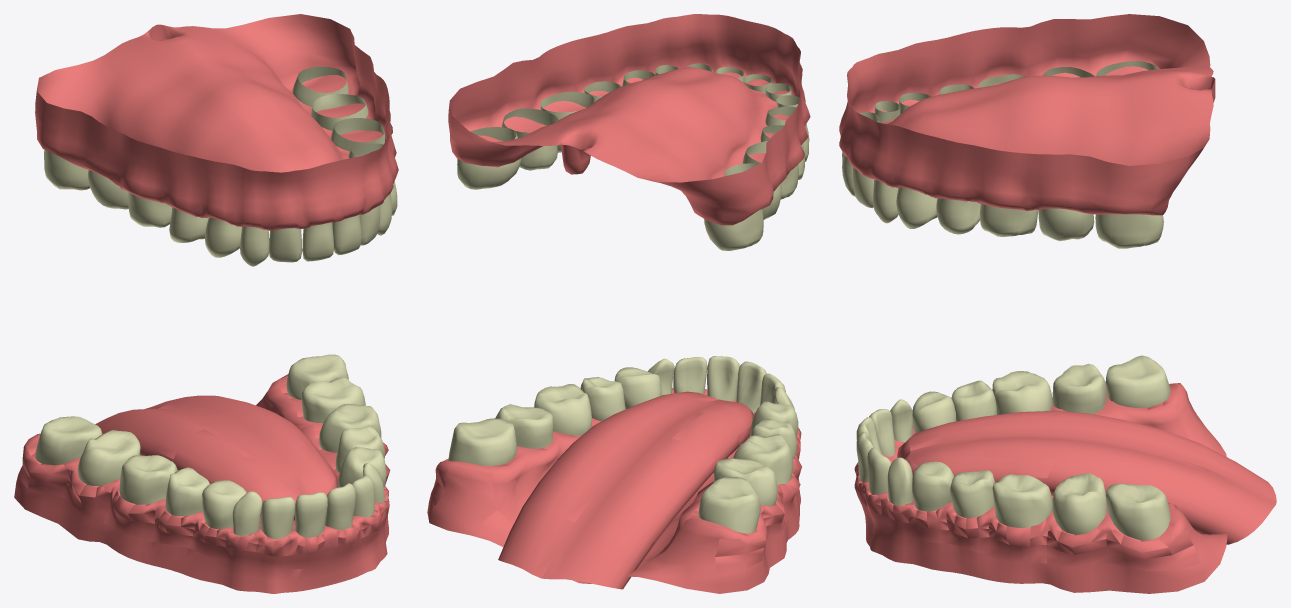
Rendered from habitooth_FDI_number.glb.
The picture shows the model from 3 angles, left to right: view 1: azimuth 30°, elevation 25°; view 2: azimuth 150°, elevation 25°; view 3: azimuth 270°, elevation 25°; orthographic projection. The views are drawn at different scales.
Visible parts, largest first — view 1: Cube.001, Cube.003, Cube.010, Tooth_47, Tooth_48, Tooth_46, Tooth_37, Tooth_36, Tooth_38, Tooth_45, Tooth_44, Tooth_41 (+19 smaller); view 2: Cube.001, Cube.010, Cube.003, Tooth_38, Tooth_48, Tooth_36, Tooth_28, Tooth_37, Tooth_46, Tooth_47, Tooth_18, Tooth_35 (+12 smaller); view 3: Cube.001, Cube.003, Cube.010, Tooth_38, Tooth_37, Tooth_48, Tooth_36, Tooth_47, Tooth_46, Tooth_28, Tooth_35, Tooth_34 (+12 smaller).
Boxes of the visible parts, bbox=[...] form: Cube.001: bbox=[35, 14, 398, 230]; Cube.003: bbox=[14, 374, 390, 593]; Cube.010: bbox=[95, 395, 337, 520]; Tooth_47: bbox=[78, 430, 140, 485]; Tooth_48: bbox=[35, 416, 102, 465]; Tooth_46: bbox=[119, 455, 177, 504]; Tooth_37: bbox=[301, 377, 365, 423]; Tooth_36: bbox=[319, 404, 381, 452]; Tooth_38: bbox=[286, 354, 348, 399]; Tooth_45: bbox=[165, 467, 209, 516]; Tooth_44: bbox=[202, 480, 246, 529]; Tooth_41: bbox=[294, 492, 327, 537]; Cube.001: bbox=[448, 14, 810, 225]; Cube.010: bbox=[498, 391, 753, 589]; Cube.003: bbox=[427, 388, 801, 593]; Tooth_38: bbox=[448, 418, 517, 465]; Tooth_48: bbox=[698, 476, 760, 533]; Tooth_36: bbox=[534, 384, 591, 435]; Tooth_28: bbox=[457, 127, 521, 189]; Tooth_37: bbox=[495, 404, 553, 448]; Tooth_46: bbox=[733, 434, 793, 484]; Tooth_47: bbox=[713, 458, 777, 506]; Tooth_18: bbox=[704, 209, 763, 250]; Tooth_35: bbox=[580, 377, 625, 421]; Cube.001: bbox=[839, 14, 1215, 215]; Cube.003: bbox=[854, 383, 1227, 593]; Cube.010: bbox=[897, 410, 1276, 544]; Tooth_38: bbox=[1105, 483, 1170, 540]; Tooth_37: bbox=[1052, 473, 1106, 534]; Tooth_48: bbox=[1105, 355, 1170, 407]; Tooth_36: bbox=[992, 474, 1052, 527]; Tooth_47: bbox=[1052, 363, 1106, 413]; Tooth_46: bbox=[992, 371, 1052, 414]; Tooth_28: bbox=[1095, 214, 1163, 248]; Tooth_35: bbox=[950, 470, 994, 517]; Tooth_34: bbox=[912, 461, 953, 511].
Size of the model in its own units: 0.687 by 0.898 by 0.7748.
